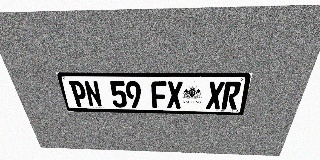5: (109, 81, 128, 108)
9: (125, 81, 142, 108)
F: (151, 81, 167, 108)
N: (83, 81, 103, 107)
P: (68, 81, 89, 107)
R: (221, 82, 242, 110)
X: (206, 81, 225, 109), (167, 81, 183, 109)
